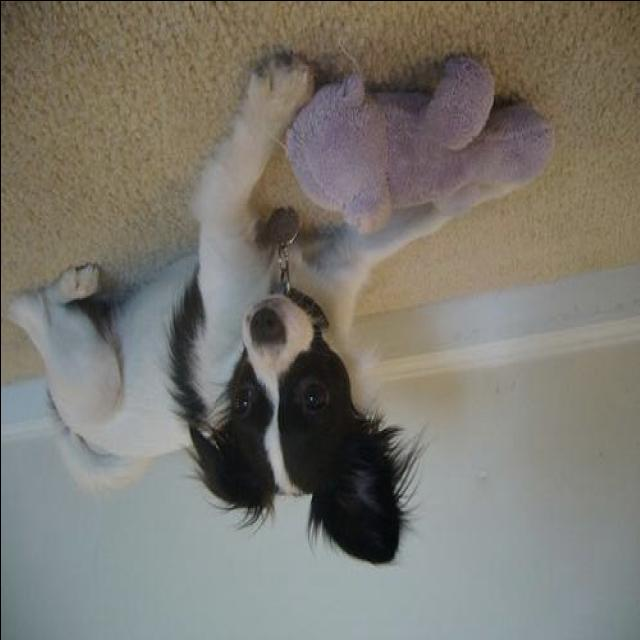papillon: (12, 44, 410, 570)
